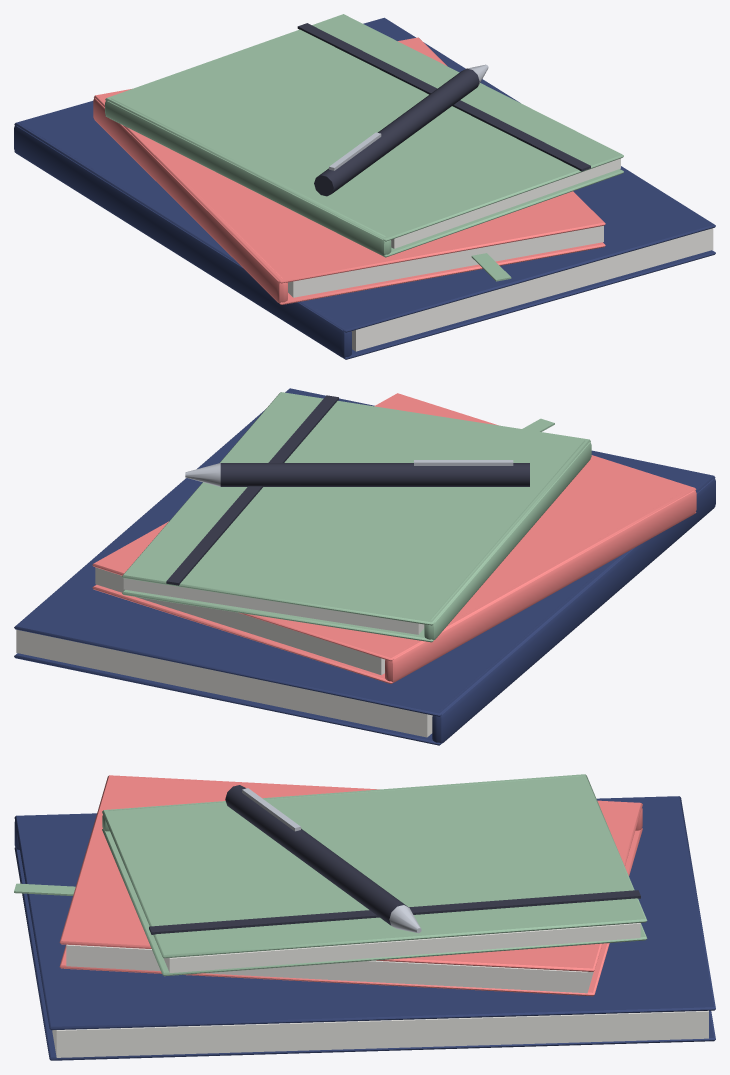
The model's file is notebook_stack.glb.
The picture shows the model from 3 angles, top to bottom: view 1: azimuth 30°, elevation 25°; view 2: azimuth 150°, elevation 25°; view 3: azimuth 270°, elevation 25°; orthographic projection. The views are drawn at different scales.
Parts seen in each view (by area): view 1: cover_c, cover_a, cover_b, paper, charcoal, pen_tip; view 2: cover_c, cover_a, cover_b, paper, charcoal, pen_tip; view 3: cover_c, cover_a, paper, cover_b, charcoal, pen_tip.
Part boxes in pixels (bbox=[...]): cover_c: bbox=[105, 14, 623, 281]; cover_a: bbox=[14, 17, 715, 359]; cover_b: bbox=[93, 37, 605, 304]; paper: bbox=[288, 158, 713, 351]; charcoal: bbox=[297, 23, 590, 196]; pen_tip: bbox=[329, 64, 488, 170]; cover_c: bbox=[122, 392, 591, 642]; cover_a: bbox=[14, 388, 715, 745]; cover_b: bbox=[92, 393, 696, 683]; paper: bbox=[16, 567, 432, 737]; charcoal: bbox=[166, 395, 529, 585]; pen_tip: bbox=[185, 460, 513, 486]; cover_c: bbox=[14, 774, 647, 976]; cover_a: bbox=[14, 796, 715, 1060]; paper: bbox=[52, 923, 708, 1057]; cover_b: bbox=[59, 775, 642, 996]; charcoal: bbox=[149, 785, 640, 934]; pen_tip: bbox=[242, 788, 421, 933].
Size of the model in its own units: 0.2351 by 0.0513 by 0.2995.
